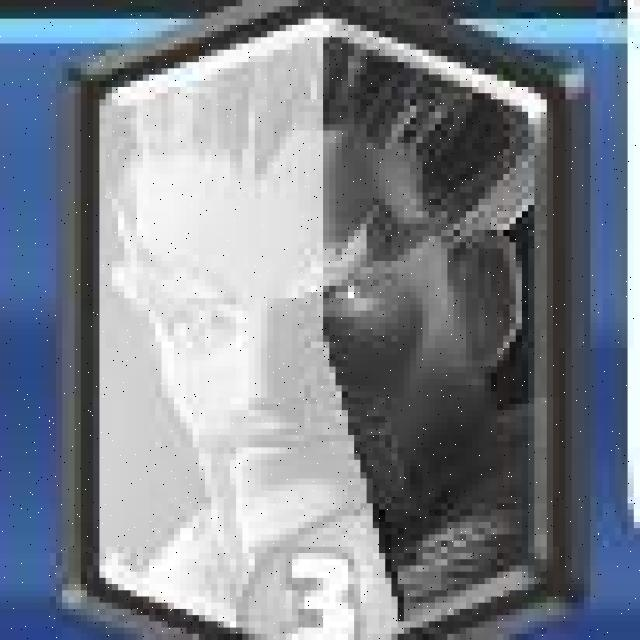Ice_Wizard: (76, 2, 578, 634)
